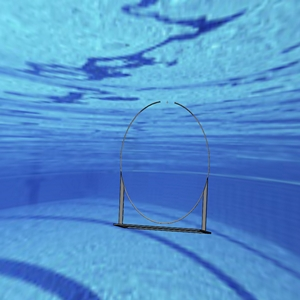circle: (117, 97, 212, 234)
